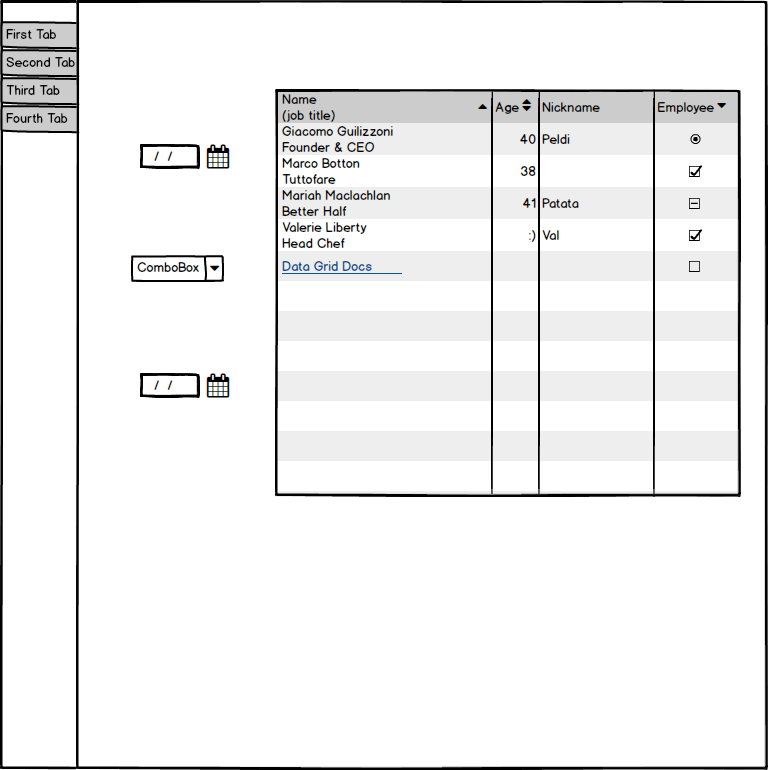date_picker: (133, 362, 242, 407), (133, 135, 237, 177)
select_box: (124, 248, 233, 290)
sidebar: (3, 9, 86, 140)
table: (267, 83, 750, 503)
